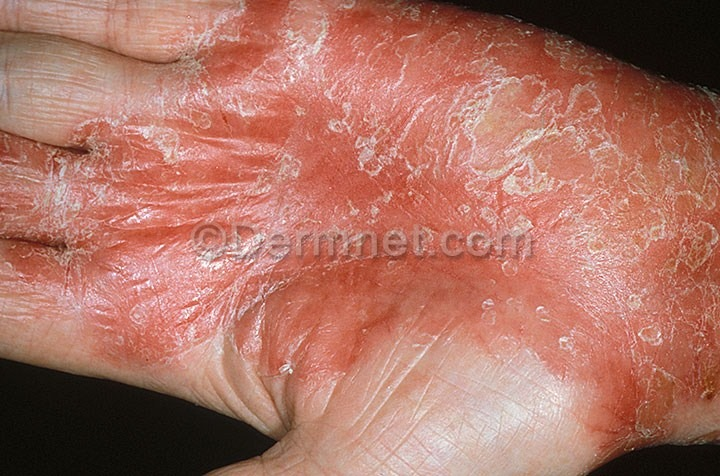Psoriasis: (67, 5, 514, 226), (45, 234, 560, 392), (529, 36, 716, 418)
